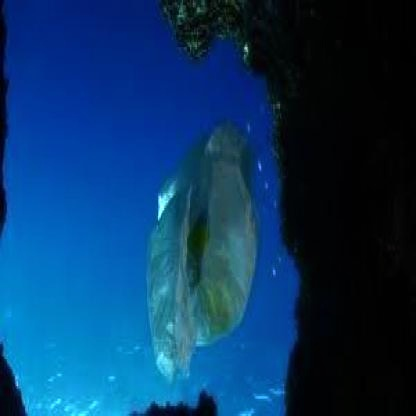pbag: (146, 116, 260, 387)
